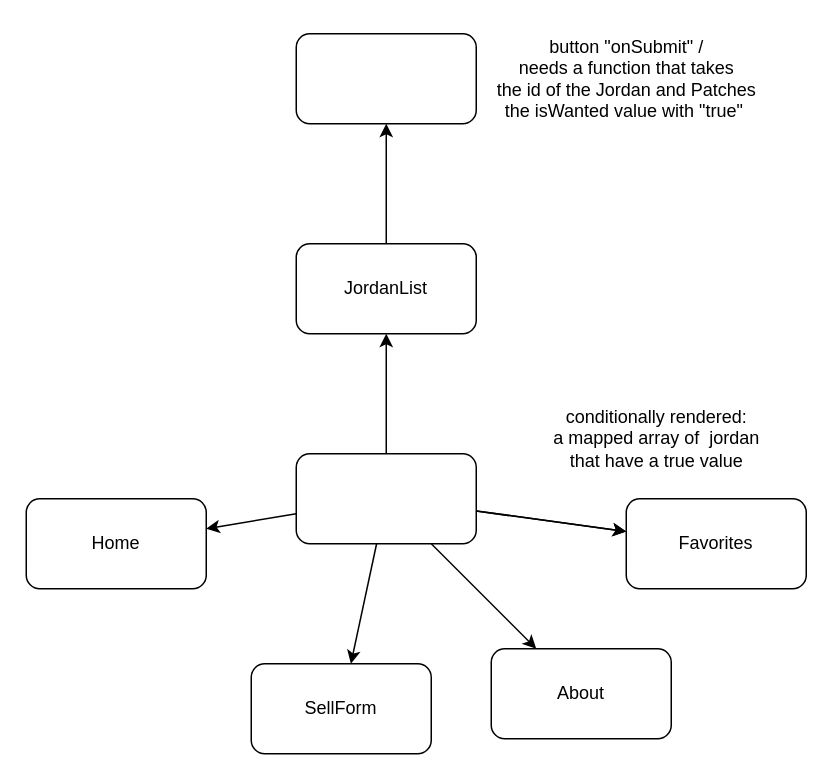
Image size: 833x780. Some labels were removed from this diagram. Each missing label, with the centre of its shape:
App: (385,498)
JordanCard: (385,78)
